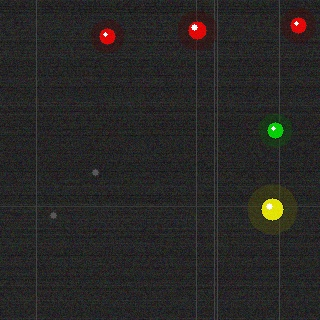green_normal: (265, 120, 285, 140)
red_fault: (186, 19, 208, 41), (97, 26, 117, 46), (288, 15, 308, 35)
yellow_warning: (259, 196, 285, 222)
